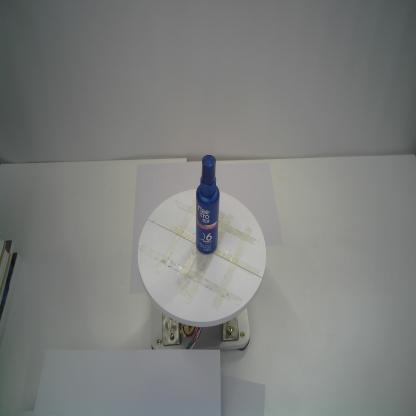Personal Hygiene: (196, 154, 219, 254)
